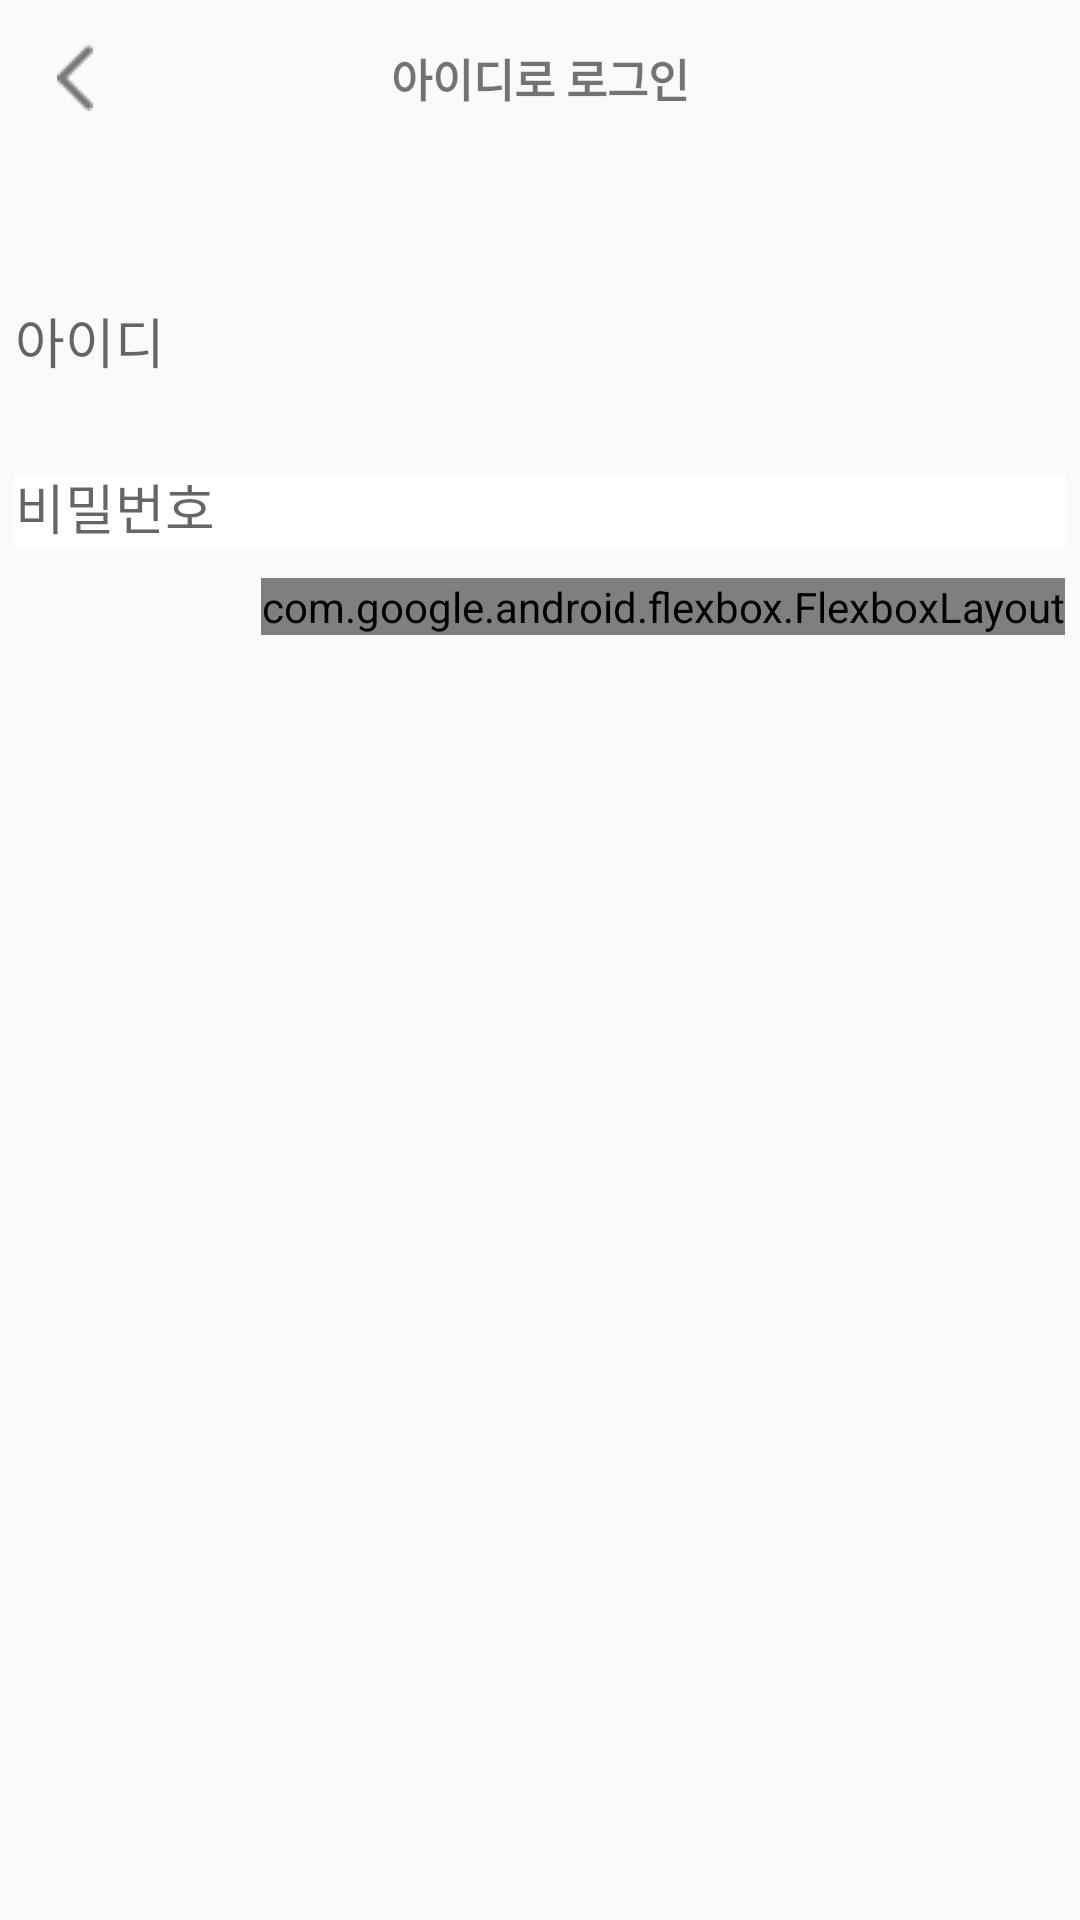

Screen size 1080*1920. Icon name, then its box in pixels as (x1, y1, x2, y2):
arrow: (57, 45, 93, 111)
